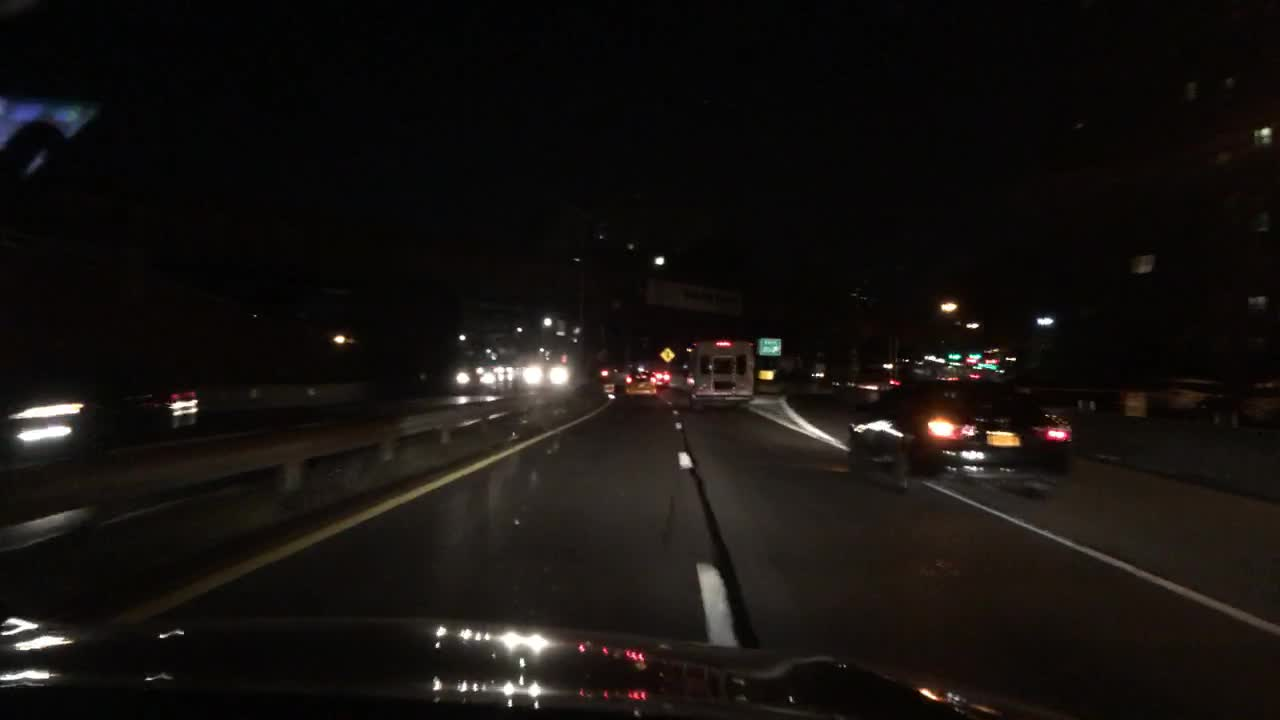car: (846, 374, 1073, 499), (0, 354, 204, 468), (1112, 373, 1225, 418), (688, 338, 754, 409), (1230, 377, 1278, 437), (520, 357, 569, 390), (449, 361, 493, 393), (626, 372, 657, 401), (597, 364, 627, 384), (651, 370, 676, 389), (495, 364, 515, 378)
traffic sign: (758, 337, 782, 357), (660, 345, 674, 362)
